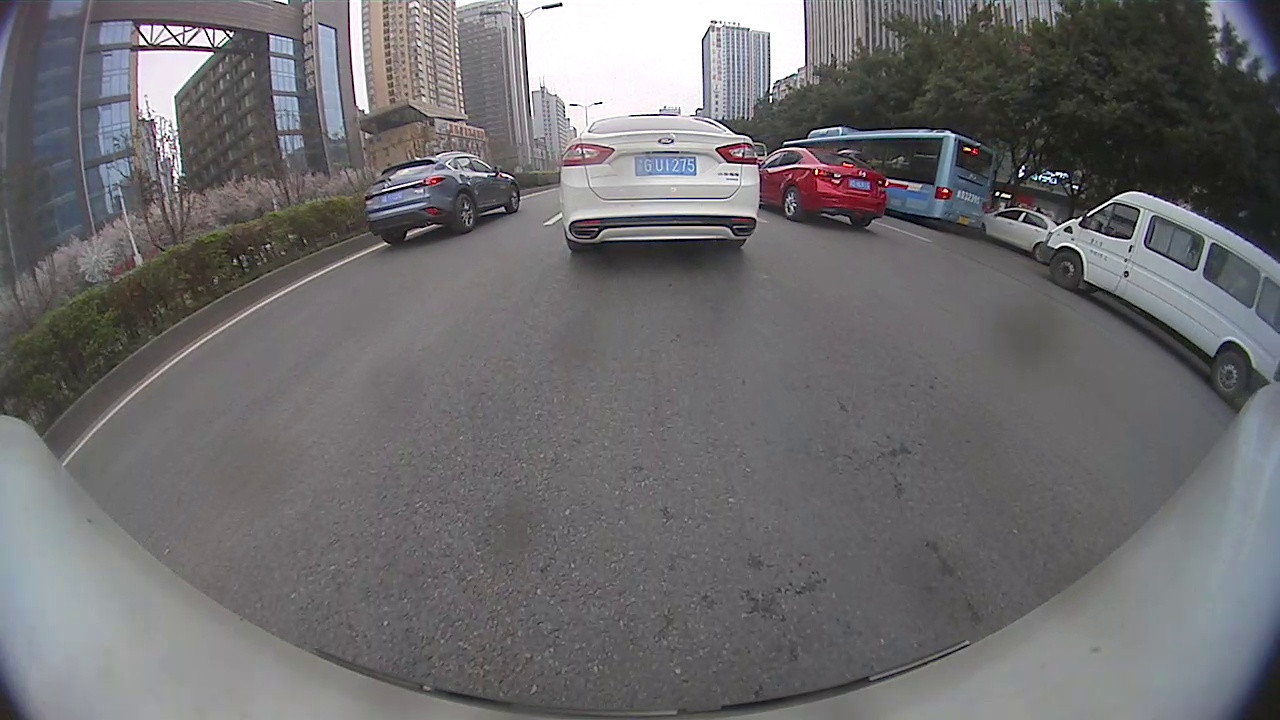bus: (781, 128, 999, 232)
car: (1046, 190, 1278, 400), (559, 113, 760, 255), (360, 148, 520, 247), (761, 147, 891, 229), (981, 206, 1056, 263)
front: (1049, 247, 1084, 290), (506, 183, 521, 213)
rear: (1209, 350, 1249, 397), (451, 190, 476, 233), (781, 185, 801, 219)
